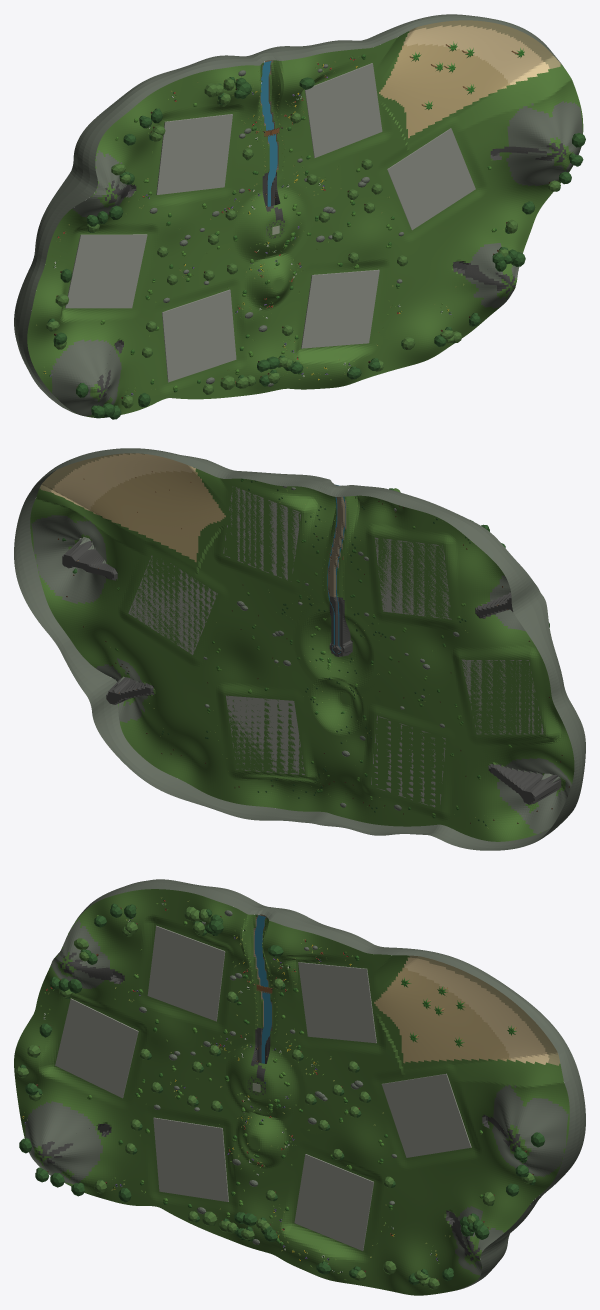
File: OreFactory_SmoothTerrain.obj
The picture shows the model from 3 angles, top to bottom: view 1: azimuth 30°, elevation 25°; view 2: azimuth 150°, elevation 25°; view 3: azimuth 330°, elevation 25°; orthographic projection.
Parts seen in each view (by area): view 1: Plot_06, Plot_02, Plot_01, Plot_05, Plot_03, Plot_04, Cliff_03, Ground_+4_+1, Ground_-4_-2, Ground_+3_+1, Ground_-1_-1, Ground_+2_-2 (+52 smaller); view 2: Cliff_07, Cliff_03, Ground_-3_-2, Ground_-3_+0, Ground_+0_-1, Plot_03, Plot_02, Ground_-2_-1, Ground_+2_+1, Ground_+1_+0, Ground_+1_-1, Ground_-3_-1 (+52 smaller); view 3: Plot_04, Plot_01, Plot_05, Plot_02, Plot_03, Plot_06, Ground_-3_-2, Ground_+3_+1, Ground_+4_+1, Ground_+2_+1, Ground_+0_-1, Ground_+2_-2 (+51 smaller).
Part boxes in pixels (x1=…): Plot_06: x1=65, y1=234, x2=147, y2=308; Plot_02: x1=301, y1=269, x2=379, y2=348; Plot_01: x1=162, y1=289, x2=236, y2=382; Plot_05: x1=156, y1=114, x2=232, y2=194; Plot_03: x1=387, y1=128, x2=475, y2=230; Plot_04: x1=305, y1=63, x2=382, y2=157; Cliff_03: x1=27, y1=102, x2=127, y2=282; Ground_+4_+1: x1=499, y1=36, x2=566, y2=109; Ground_-4_-2: x1=38, y1=332, x2=111, y2=408; Ground_+3_+1: x1=442, y1=44, x2=505, y2=121; Ground_-1_-1: x1=211, y1=227, x2=278, y2=295; Ground_+2_-2: x1=386, y1=244, x2=447, y2=319; Cliff_07: x1=18, y1=571, x2=177, y2=790; Cliff_03: x1=472, y1=530, x2=573, y2=716; Ground_-3_-2: x1=455, y1=741, x2=530, y2=808; Ground_-3_+0: x1=455, y1=618, x2=522, y2=693; Ground_+0_-1: x1=278, y1=636, x2=345, y2=706; Plot_03: x1=128, y1=555, x2=217, y2=654; Plot_02: x1=226, y1=695, x2=304, y2=774; Ground_-2_-1: x1=396, y1=665, x2=455, y2=741; Ground_+2_+1: x1=157, y1=485, x2=219, y2=559; Ground_+1_+0: x1=218, y1=560, x2=278, y2=634; Ground_+1_-1: x1=218, y1=622, x2=278, y2=698; Ground_-3_-1: x1=455, y1=679, x2=517, y2=753; Plot_04: x1=298, y1=962, x2=376, y2=1043; Plot_01: x1=153, y1=1117, x2=228, y2=1201; Plot_05: x1=147, y1=925, x2=225, y2=1021; Plot_02: x1=294, y1=1154, x2=373, y2=1250; Plot_03: x1=381, y1=1073, x2=471, y2=1157; Plot_06: x1=55, y1=998, x2=138, y2=1098; Ground_-3_-2: x1=68, y1=1104, x2=144, y2=1177; Ground_+3_+1: x1=440, y1=1001, x2=502, y2=1080; Ground_+4_+1: x1=497, y1=1014, x2=559, y2=1096; Ground_+2_+1: x1=380, y1=988, x2=442, y2=1063; Ground_+0_-1: x1=254, y1=1084, x2=321, y2=1158; Ground_+2_-2: x1=380, y1=1174, x2=439, y2=1251.
Size of the model in its own units: 1222 by 738 by 157.
